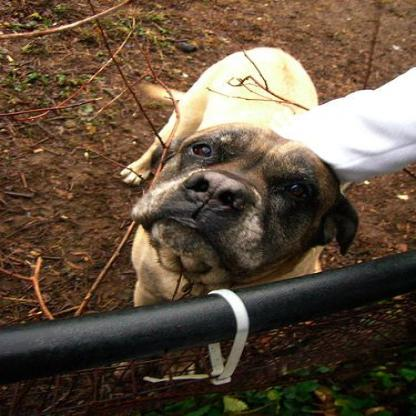bull_mastiff: (107, 45, 360, 376)
